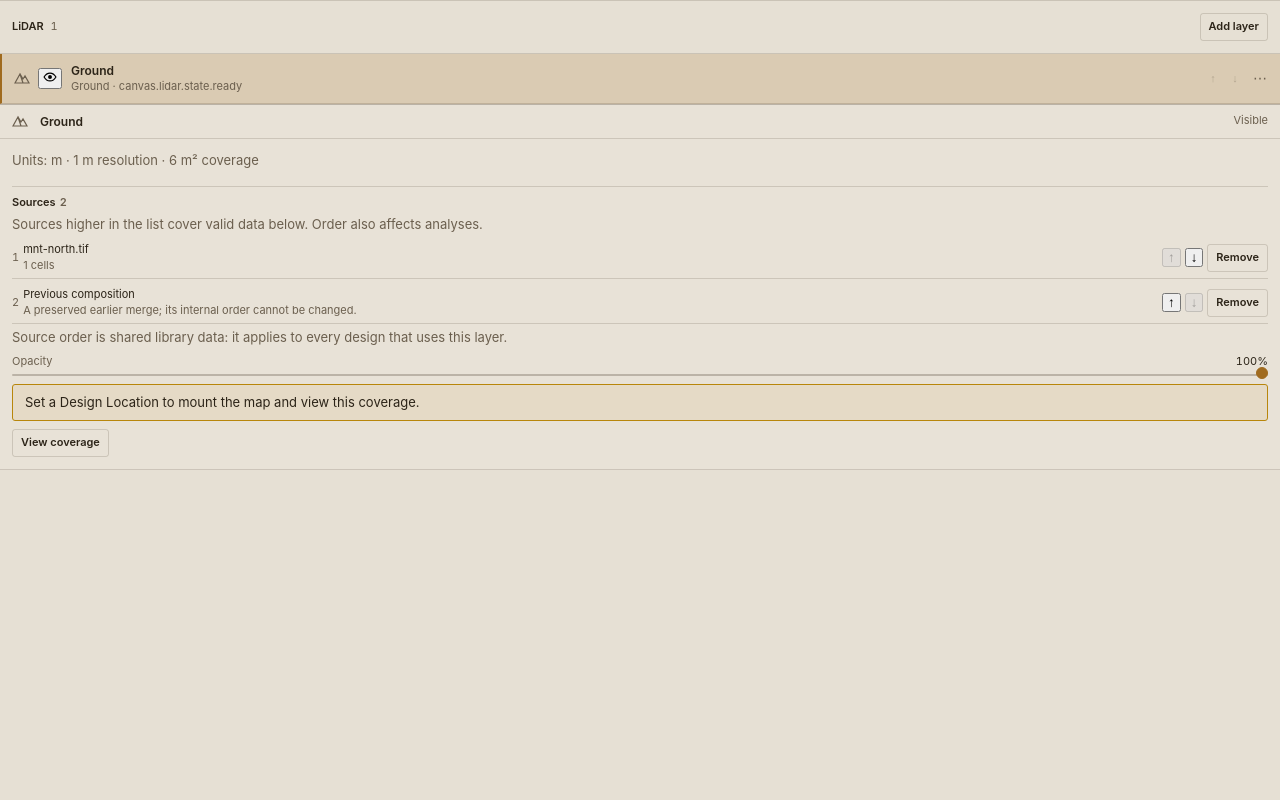
Scenario: ordered layer priority panel › keeps a failed edit message visible and re-reads the head
Click the button named "Move up". click: [1171, 303]
box: [1162,293,1181,312]
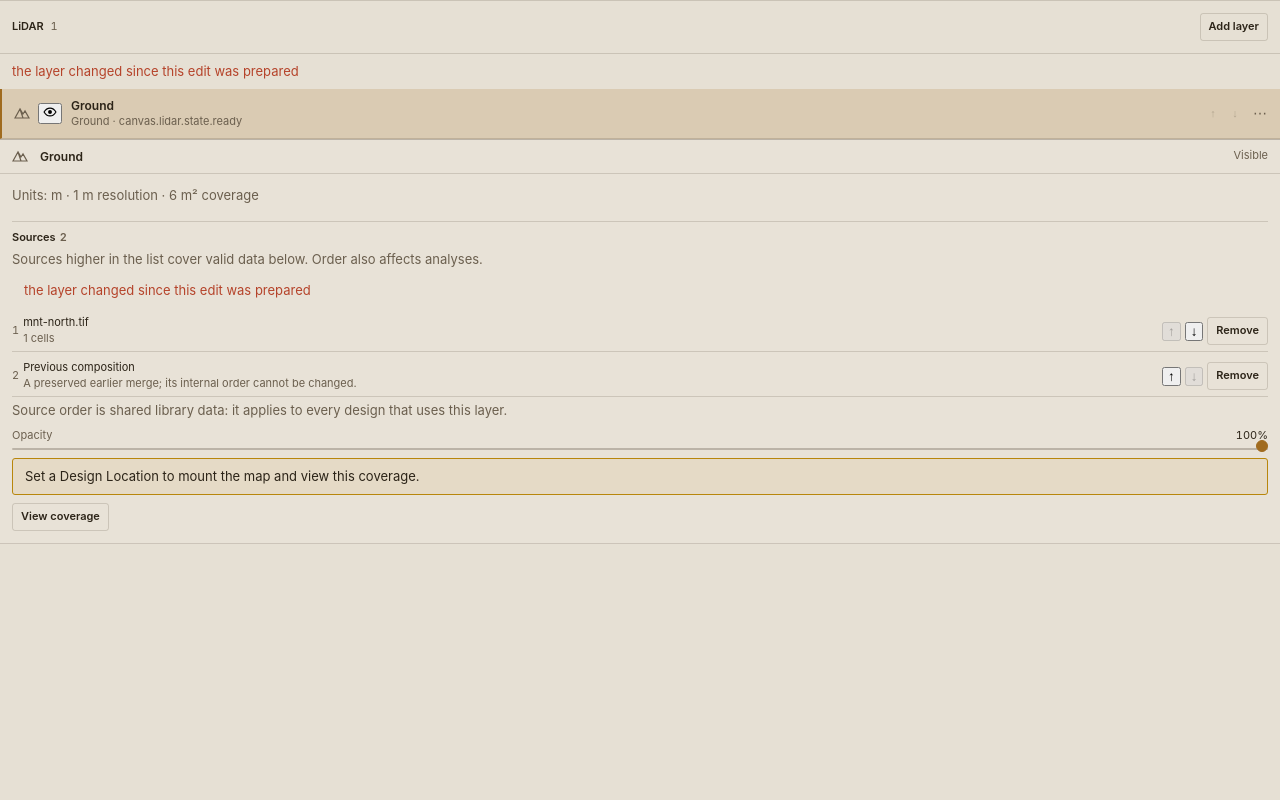
Expected: the text "the layer changed since this edit was prepared" is shown, [12,63,299,79]
